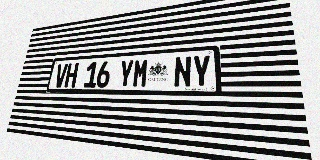1: (83, 62, 99, 87)
6: (96, 61, 111, 87)
H: (64, 63, 79, 87)
M: (132, 58, 149, 87)
N: (173, 56, 192, 87)
V: (54, 64, 68, 87)
Y: (192, 55, 211, 87), (118, 59, 134, 87)
